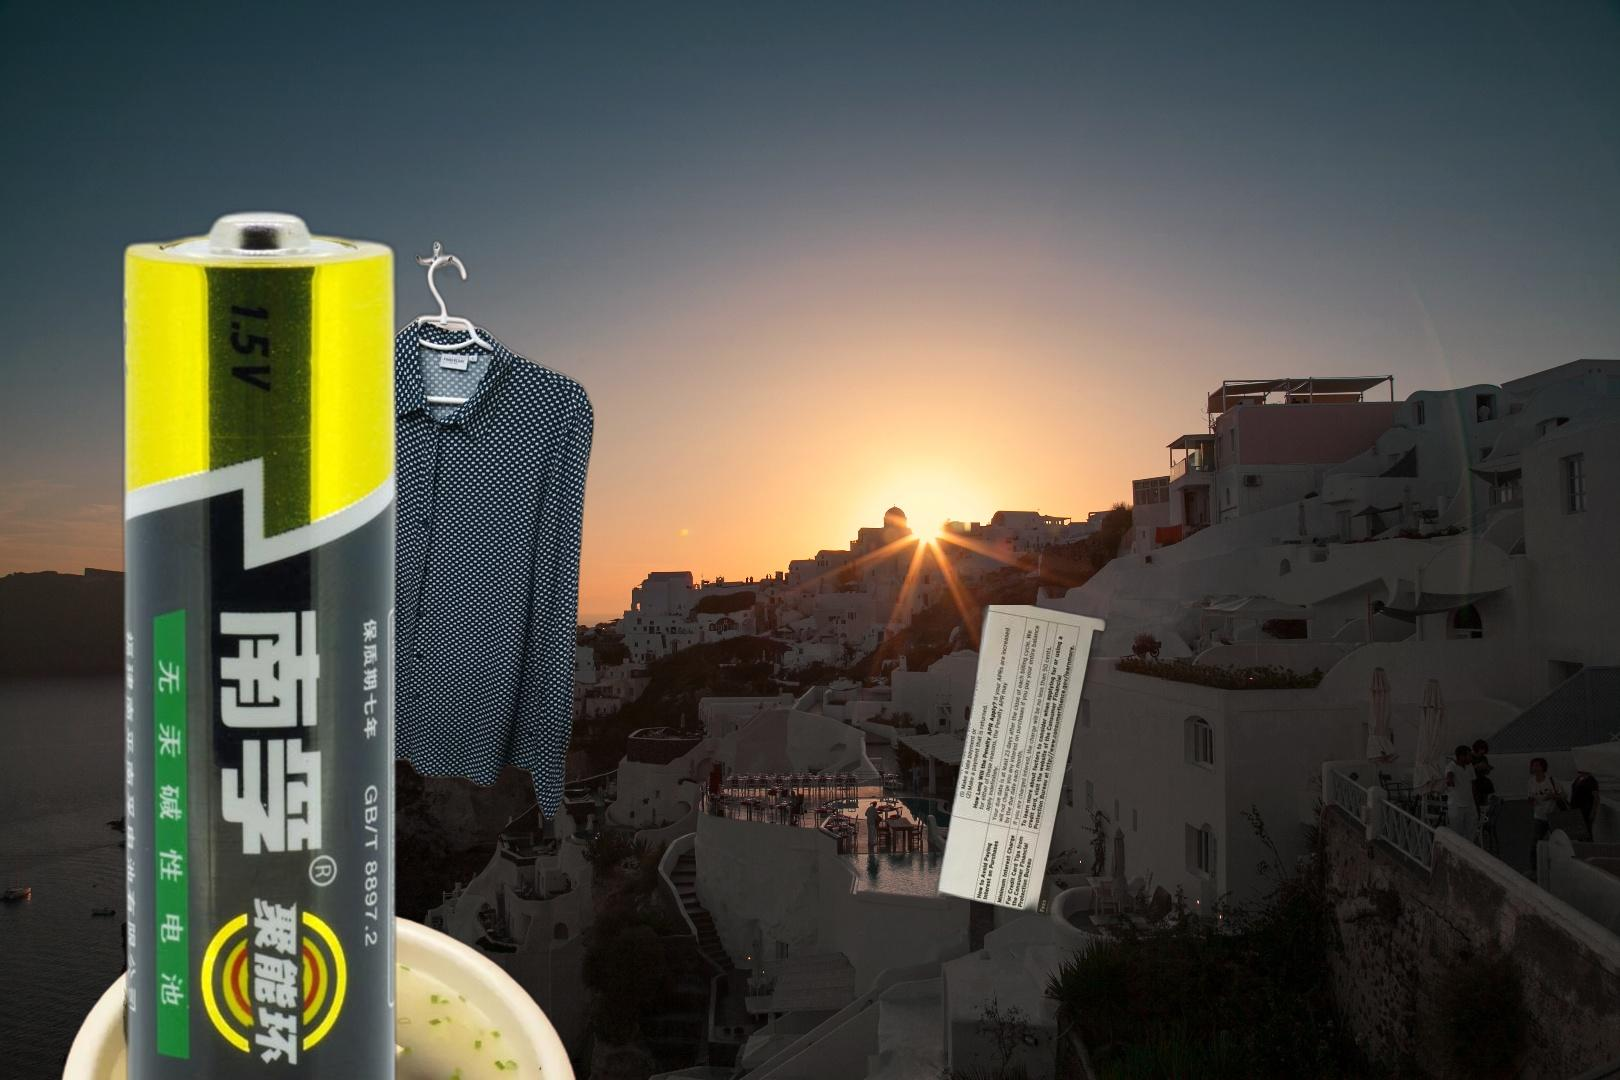battery: (113, 201, 407, 1080)
biological: (54, 900, 585, 1080)
clothes: (278, 234, 598, 828)
glass: (1615, 278, 1620, 469)
paper: (931, 605, 1113, 925)
